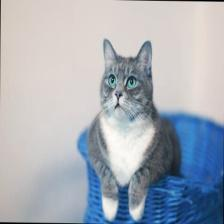kedo: (89, 40, 179, 220)
